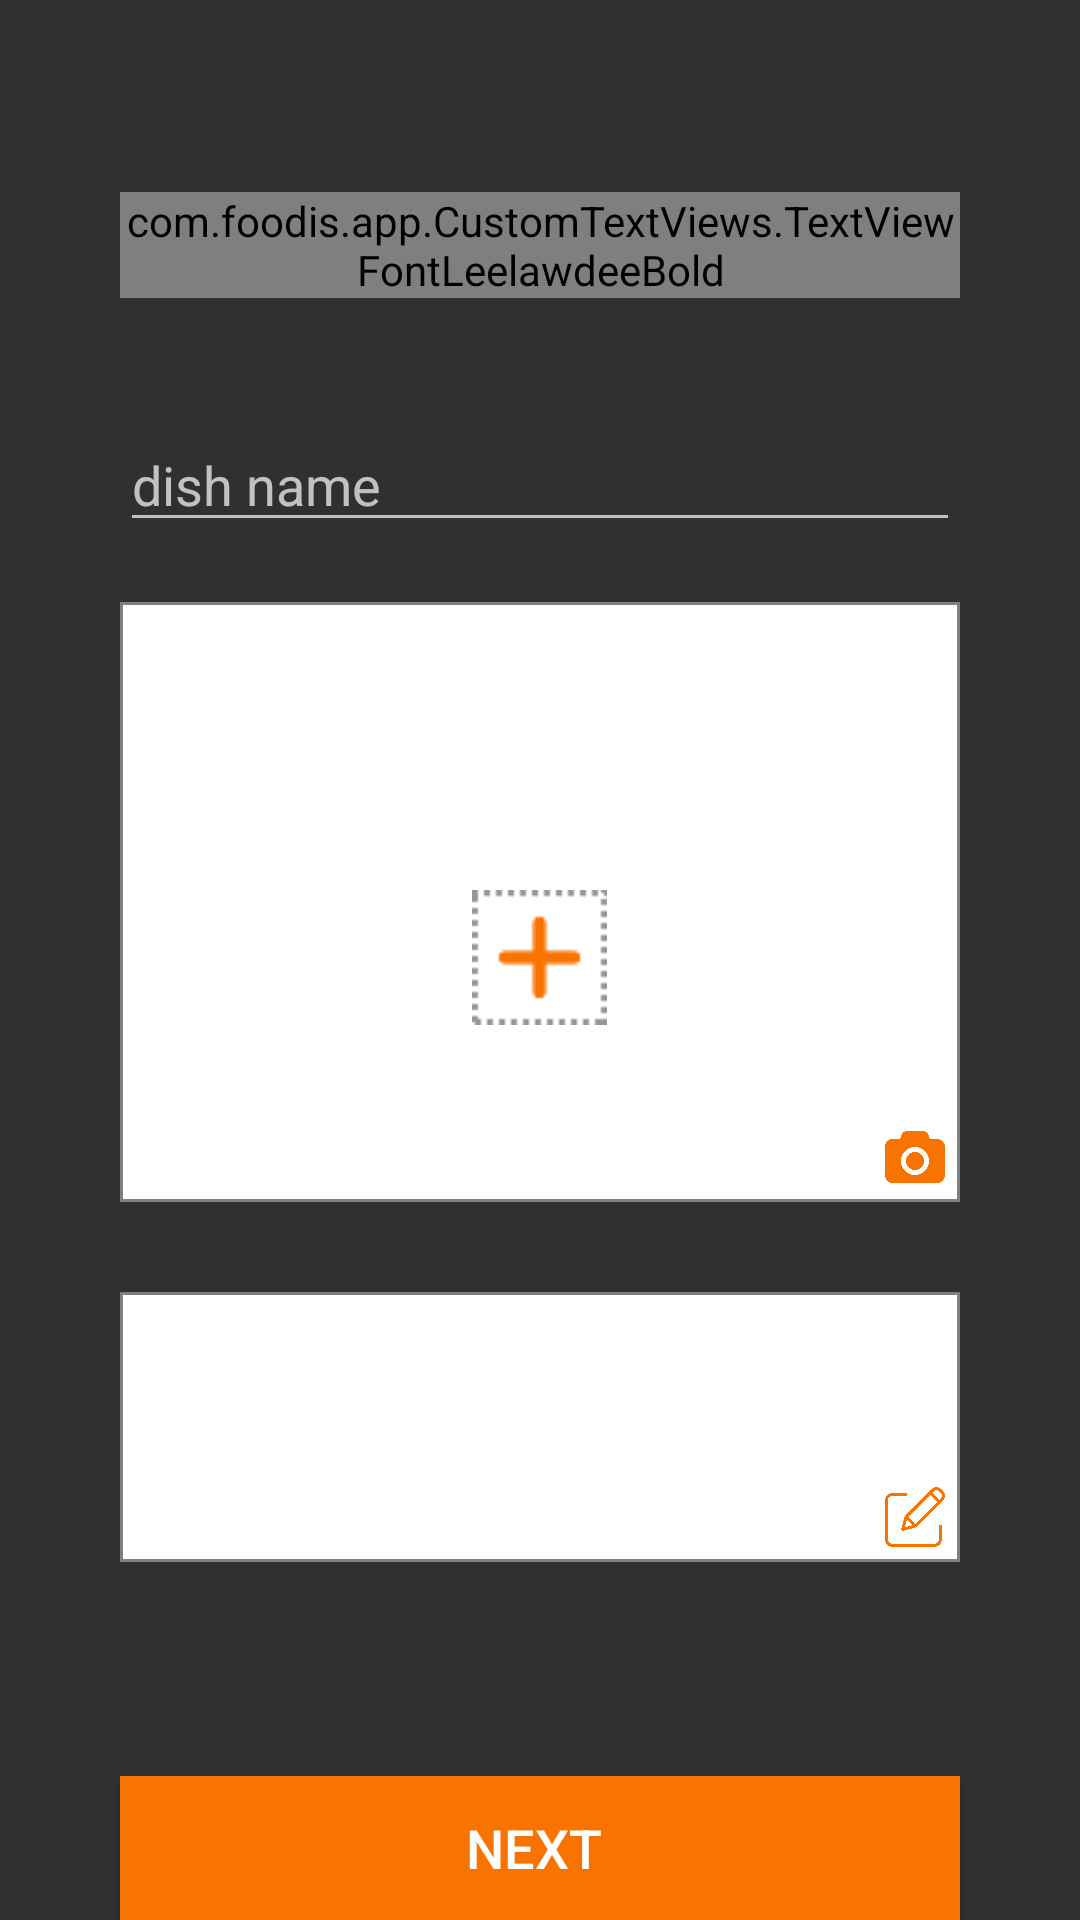

Icon click points for this 1080px×1920px phone screenshot, format point (x, y):
photo camera: point (915, 1157)
plus: point (539, 957)
